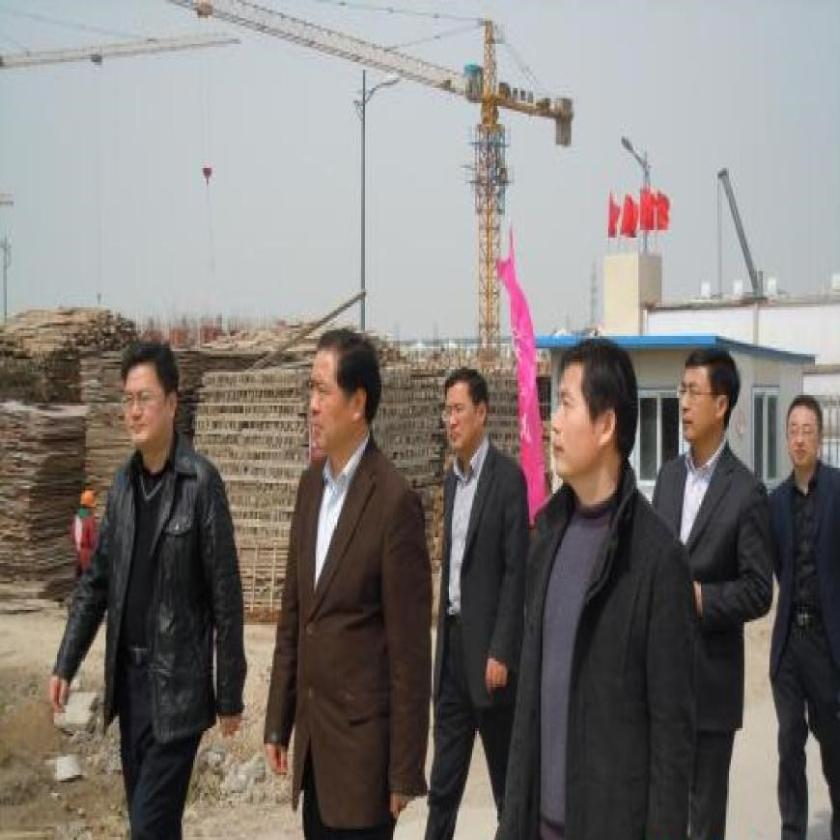Sin_casco: (543, 334, 641, 508), (306, 325, 382, 463), (676, 346, 743, 466), (117, 340, 184, 455), (440, 367, 489, 467), (784, 394, 827, 486)
